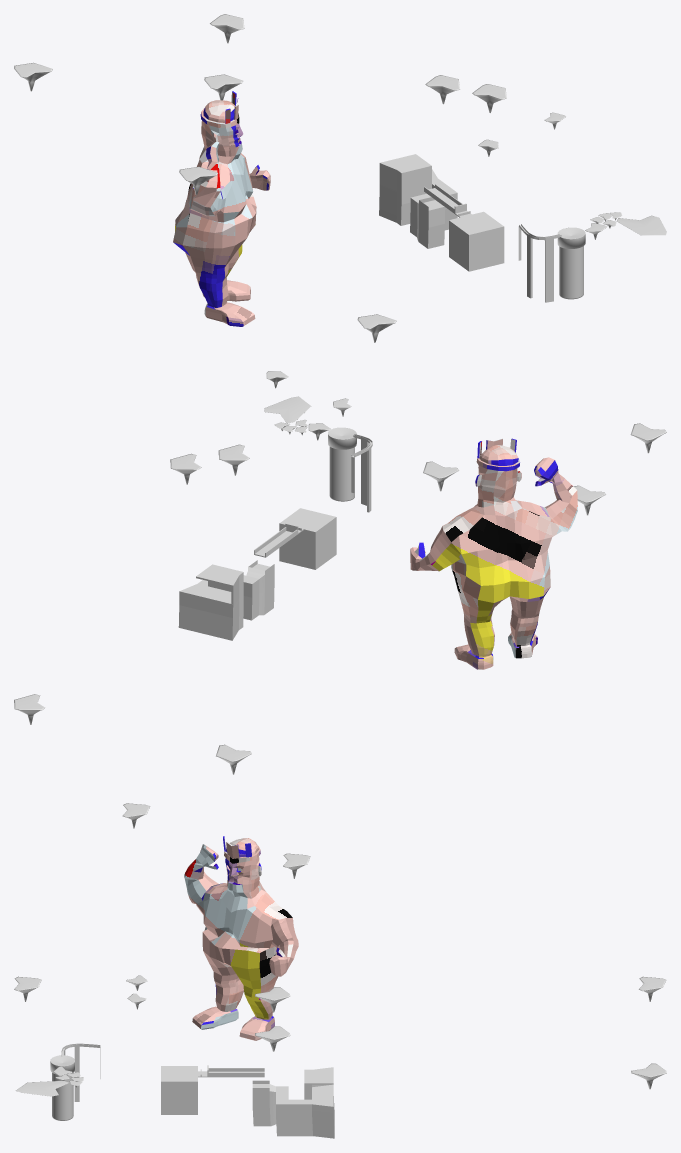
The model's file is Tutorial.fbx.
3 views of the same model, one above another, from view 1: azimuth 30°, elevation 25°; view 2: azimuth 150°, elevation 25°; view 3: azimuth 270°, elevation 25° (orthographic). The views are drawn at different scales.
Visible parts, largest first — view 1: Cube, fixedHarold:Mesh; view 2: fixedHarold:Mesh, Cube; view 3: fixedHarold:Mesh, Cube.
Boxes of the visible parts, bbox=[...] form: Cube: bbox=[14, 14, 666, 342]; fixedHarold:Mesh: bbox=[173, 91, 270, 326]; fixedHarold:Mesh: bbox=[410, 438, 577, 669]; Cube: bbox=[14, 371, 666, 774]; fixedHarold:Mesh: bbox=[184, 836, 298, 1040]; Cube: bbox=[14, 803, 666, 1138].
Size of the model in its own units: 34649 by 15945 by 49940.
